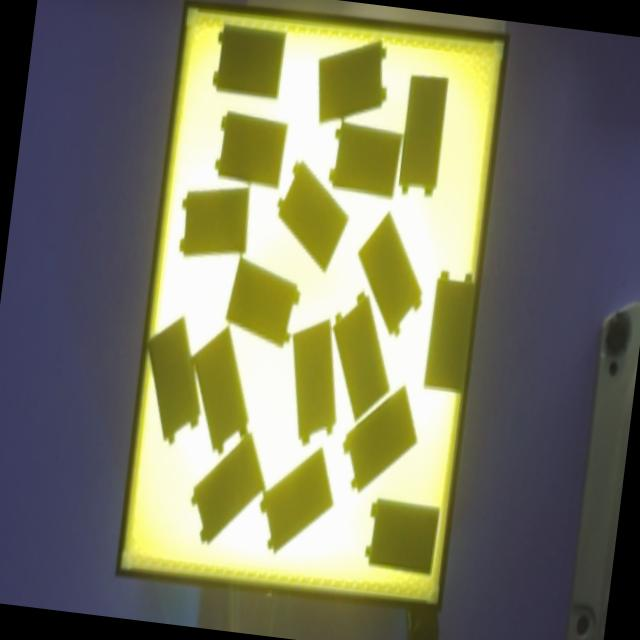bateria: (190, 431, 264, 545), (342, 385, 418, 492), (358, 212, 422, 337), (258, 447, 332, 554), (278, 160, 347, 272), (192, 326, 249, 454), (333, 293, 388, 420), (147, 314, 200, 445), (225, 257, 300, 346), (397, 77, 449, 198), (424, 270, 474, 392), (328, 122, 402, 198), (365, 497, 438, 574), (318, 42, 386, 124), (214, 112, 288, 186), (212, 25, 285, 97), (293, 319, 335, 444), (179, 190, 249, 257)
mesa: (115, 0, 510, 614)
